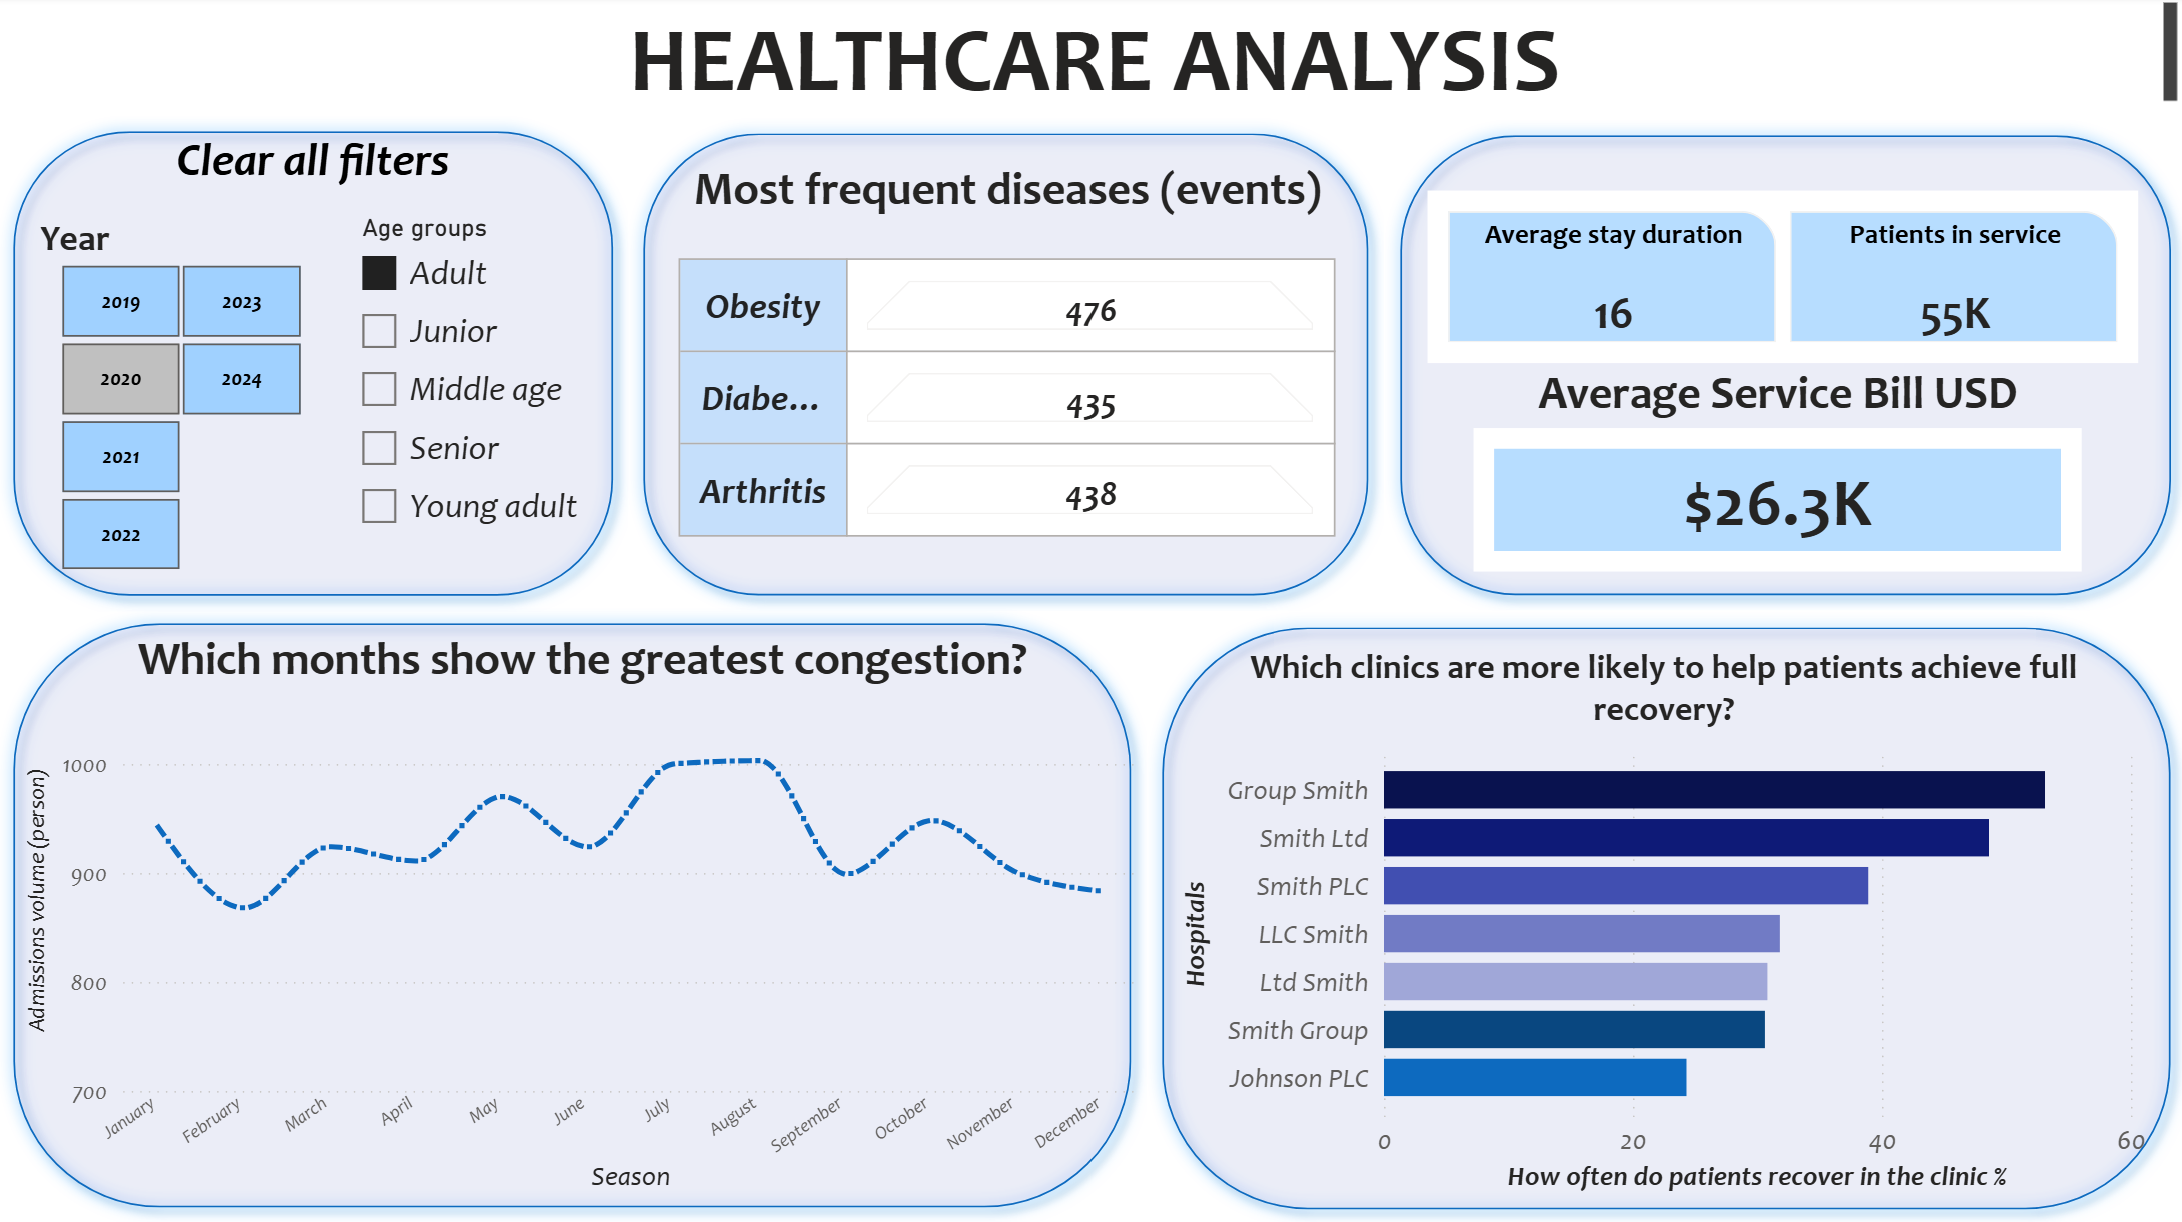

The dashboard page shown, as its layout file describes it:
{"tool":"powerbi","page":{"name":"Page 1","canvas":[1280,720],"ordinal":0},"visuals":[{"type":"group","id":"g1","title":"Background","box":[0,71.5,1280,648.4],"z":0},{"type":"shape","box":[0,71.5,369.1,289.8],"z":0,"group":"g1"},{"type":"textbox","box":[10.4,0,1269.6,71.7],"z":1000},{"type":"shape","box":[369.1,72.8,441.8,288.5],"z":1000,"group":"g1"},{"type":"shape","box":[810.9,74.1,469.1,287.2],"z":2000,"group":"g1"},{"type":"cardVisual","title":"Average Service Bill USD","fields":{"Data":["Avg(public hospitals_ranks.avg_bill_usd)"]},"box":[858.1,216.5,366.2,127.4],"z":2000},{"type":"cardVisual","title":"Most frequent diseases (events)","fields":{"Rows":["public diseas_stats_age_groups.medical_condition"],"Data":["Max(public diseas_stats_age_groups.diseas_frquency)"]},"box":[393.2,97.1,394.8,246.8],"z":3000},{"type":"shape","box":[0,360,671.8,360],"z":3000,"group":"g1"},{"type":"cardVisual","title":"Average Service Bill USD","fields":{"Data":["Avg(public hospitals_ranks.avg_length_of_stay)","CountNonNull(public healthcare.name)"]},"box":[831,109.9,426.7,111.4],"z":4000},{"type":"shape","box":[671.8,361.3,608.2,358.7],"z":4000,"group":"g1"},{"type":"lineChart","title":"Which months show the greatest congestion?","fields":{"Category":["public administrative_stats.month_name"],"Y":["Sum(public administrative_stats.admissions_volume)"]},"box":[11.1,372.5,660.7,334.3],"z":5000},{"type":"barChart","title":"Which clinics are more likely to help patients achieve full recovery?","fields":{"Category":["public hospitals_ranks.hospital"],"Y":["Sum(public hospitals_ranks.test_results_pass_rate)"]},"box":[687.8,382.1,574.7,324.8],"z":6000},{"type":"slicer","fields":{"Values":["public administrative_stats.year"]},"box":[11.1,124.2,189.5,219.7],"z":7000},{"type":"slicer","fields":{"Values":["public diseas_stats_age_groups.age_groups"]},"box":[200.1,123.5,168.9,236.5],"z":8000},{"type":"actionButton","box":[0,71.7,368.9,50.8],"z":9000}]}

Visuals, with their boxes in screenshot pixels (x1, y1, x2, y2), scaled from the page's 1280x720 canvas onto the 2182x1222 screenshot:
"Background" group: <region>0, 121, 2181, 1221</region>
shape: <region>0, 121, 629, 613</region>
textbox: <region>18, 0, 2181, 122</region>
shape: <region>629, 124, 1382, 613</region>
shape: <region>1382, 126, 2181, 613</region>
"Average Service Bill USD" cardVisual: <region>1463, 367, 2087, 584</region>
"Most frequent diseases (events)" cardVisual: <region>670, 165, 1343, 584</region>
shape: <region>0, 611, 1145, 1221</region>
"Average Service Bill USD" cardVisual: <region>1417, 187, 2144, 376</region>
shape: <region>1145, 613, 2181, 1221</region>
"Which months show the greatest congestion?" lineChart: <region>19, 632, 1145, 1200</region>
"Which clinics are more likely to help patients achieve full recovery?" barChart: <region>1172, 649, 2152, 1200</region>
slicer - public administrative_stats.year: <region>19, 211, 342, 584</region>
slicer - public diseas_stats_age_groups.age_groups: <region>341, 210, 629, 611</region>
actionButton: <region>0, 122, 629, 208</region>
